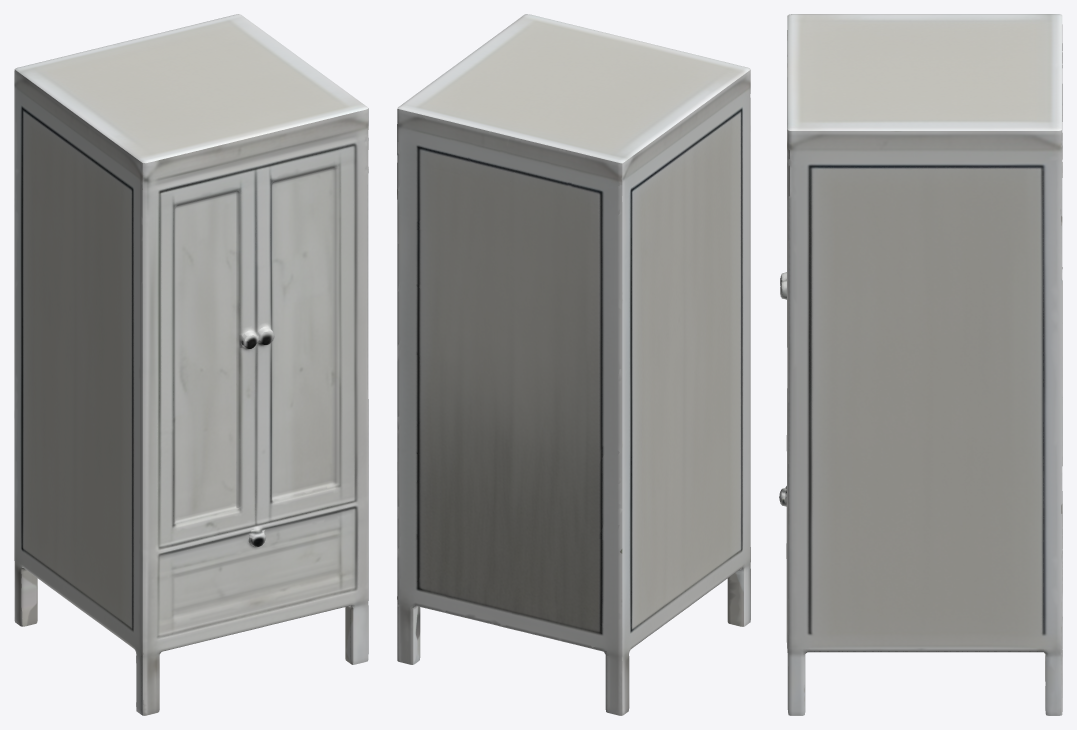
The model's file is wardrobe__wardrobe#4.glb.
3 views of the same model, side by side, from view 1: azimuth 30°, elevation 25°; view 2: azimuth 150°, elevation 25°; view 3: azimuth 270°, elevation 25° (orthographic). The views are drawn at different scales.
Visible parts, largest first — view 1: tmp0epa58gk.ply; view 2: tmp0epa58gk.ply; view 3: tmp0epa58gk.ply.
Boxes of the visible parts, box(x1,y1,x2,y2) form: tmp0epa58gk.ply: box(14, 14, 368, 715); tmp0epa58gk.ply: box(397, 14, 750, 715); tmp0epa58gk.ply: box(779, 14, 1062, 715).
Size of the model in its own units: 0.851 by 1.99 by 0.8691.
Materials: 1 (1 with a texture image).
